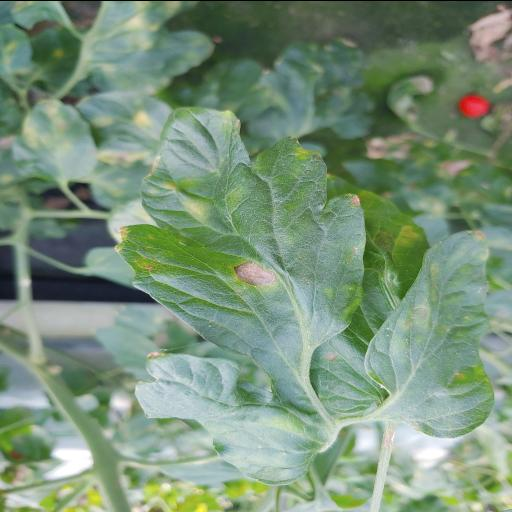disease_tomato: (112, 104, 366, 482), (362, 228, 496, 437), (10, 96, 98, 180)
